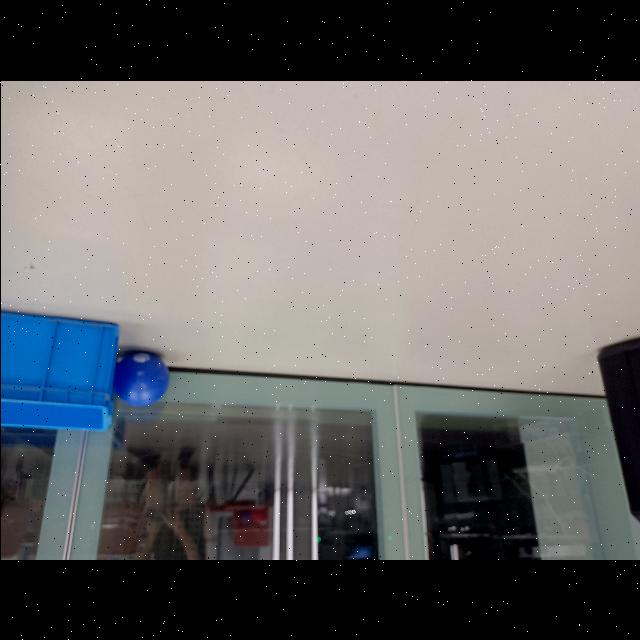B: (112, 348, 168, 408)
